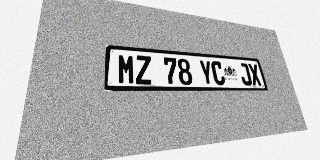7: (162, 57, 179, 85)
8: (177, 58, 193, 85)
C: (210, 61, 226, 85)
J: (238, 63, 253, 86)
M: (118, 54, 135, 84)
X: (247, 64, 262, 86)
Y: (198, 60, 214, 85)
Z: (135, 55, 152, 85)
